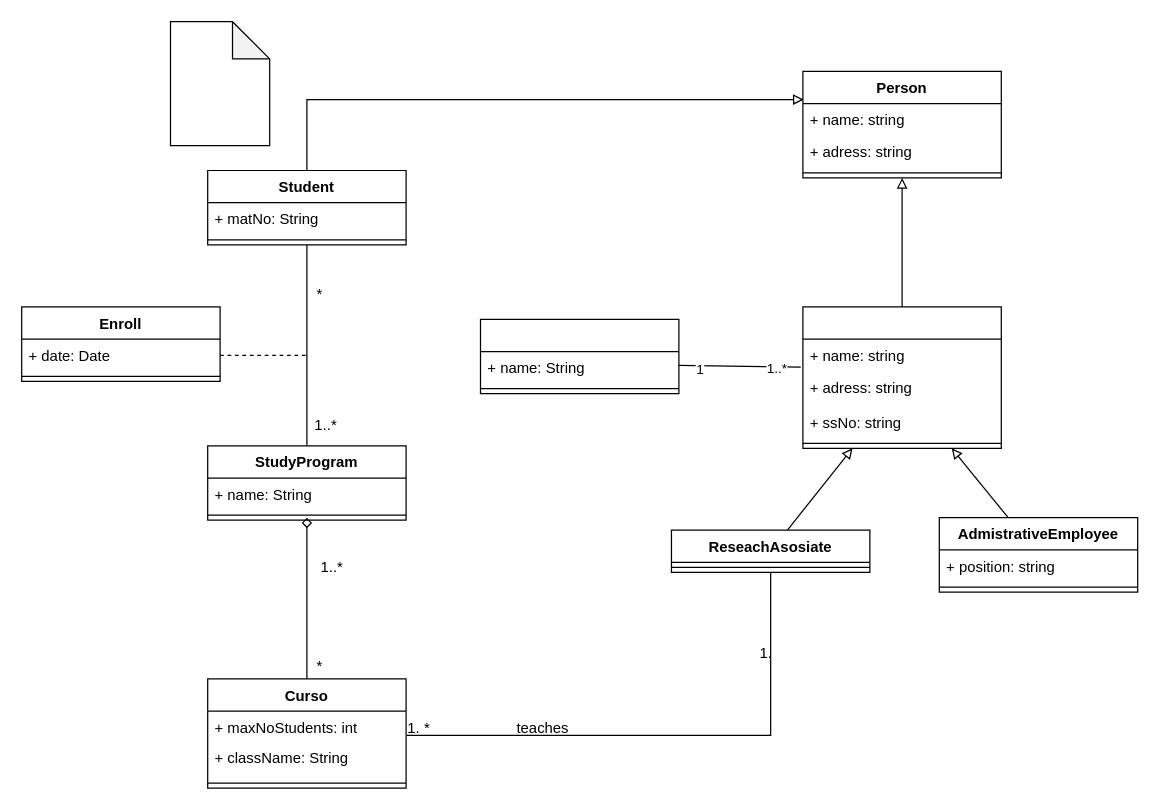
This 1159x810 diagram has some shape labels left out. Each missing label, with the box of its shape:
Alba Nieto Cuarto "A": (169, 20, 270, 146)
Employee: (802, 306, 1001, 448)
Facultad: (479, 318, 679, 394)
